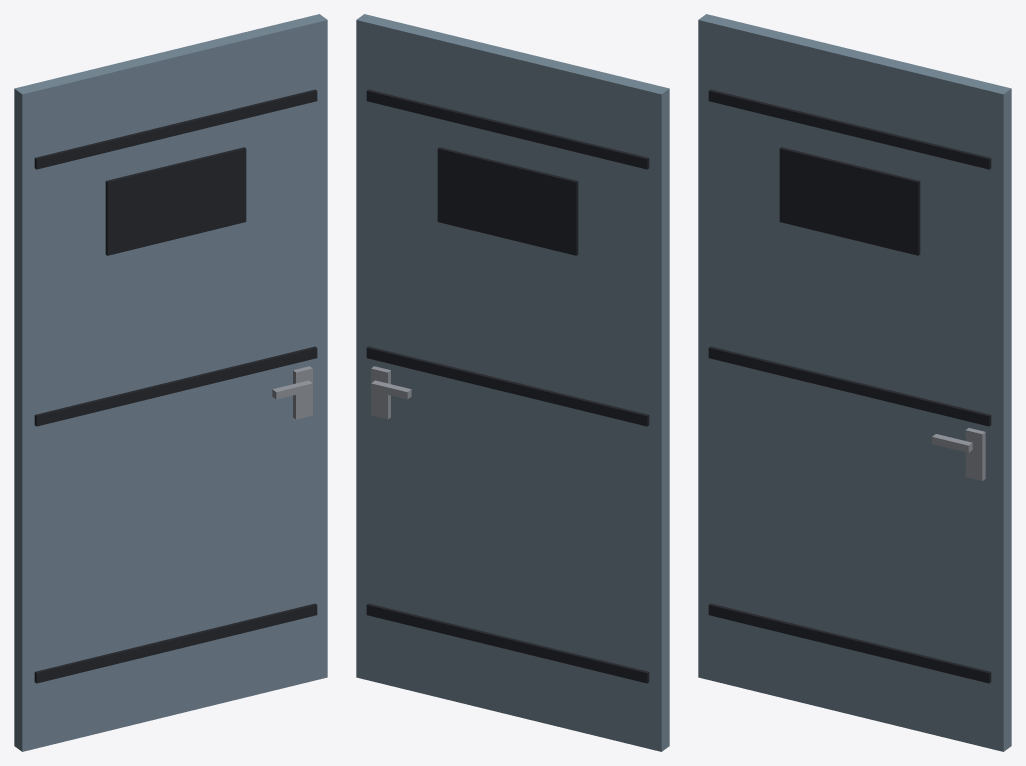
Rendered from SM_Door_metal_110x225.fbx.
3 views of the same model, side by side, from view 1: azimuth 30°, elevation 25°; view 2: azimuth 150°, elevation 25°; view 3: azimuth 330°, elevation 25° (orthographic).
Parts seen in each view (by area): view 1: SM_Door_metal_110x225; view 2: SM_Door_metal_110x225; view 3: SM_Door_metal_110x225.
Part boxes in pixels (box(x1,y1,x2,y2)): SM_Door_metal_110x225: box(14, 14, 327, 751); SM_Door_metal_110x225: box(356, 14, 669, 751); SM_Door_metal_110x225: box(698, 14, 1011, 751).
Size of the model in its own units: 1.09 by 2.24 by 0.175.
